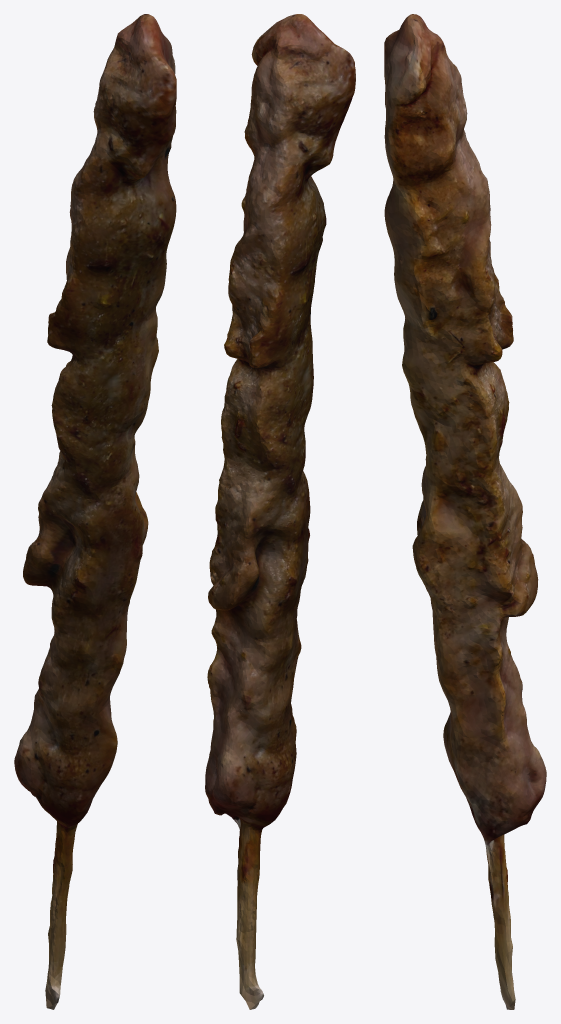
File: bbq.glb
The picture shows the model from 3 angles, left to right: view 1: azimuth 90°, elevation 25°; view 2: azimuth 150°, elevation 25°; view 3: azimuth 270°, elevation 25°; orthographic projection. The views are drawn at different scales.
Parts seen in each view (by area): view 1: node0; view 2: node0; view 3: node0.
Boxes of the visible parts, <box> form: node0: <box>14,14,176,1009</box>; node0: <box>205,14,355,1009</box>; node0: <box>384,14,546,1009</box>.
Size of the model in its own units: 0.0155 by 0.1503 by 0.0223.
Materials: 1 (1 with a texture image).
